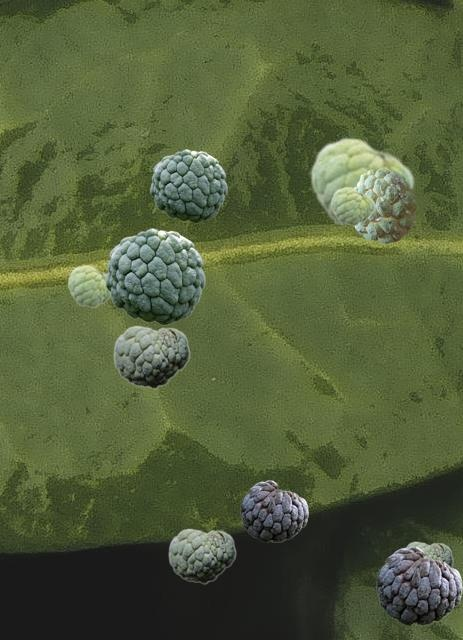atis: (309, 136, 413, 228), (105, 228, 204, 324), (376, 546, 461, 624), (150, 149, 226, 222), (113, 325, 189, 388), (354, 168, 415, 242), (240, 480, 307, 541), (168, 528, 235, 583), (67, 264, 110, 307), (330, 186, 374, 225), (406, 541, 452, 566)
